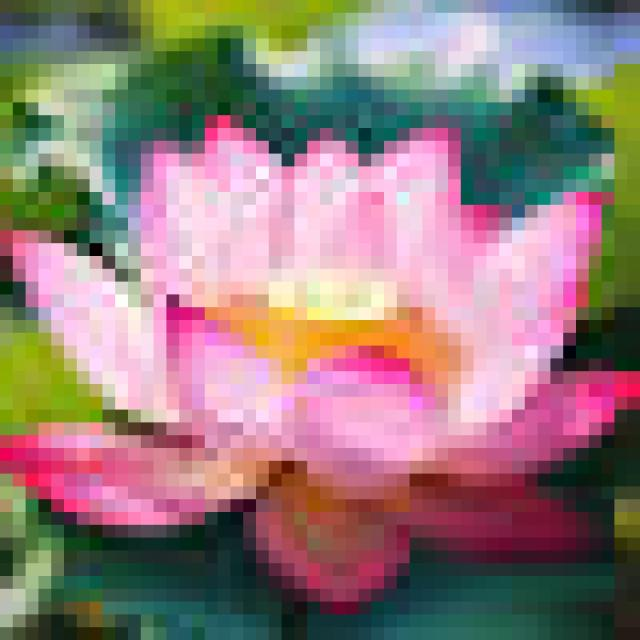lotus: (4, 101, 640, 615)
